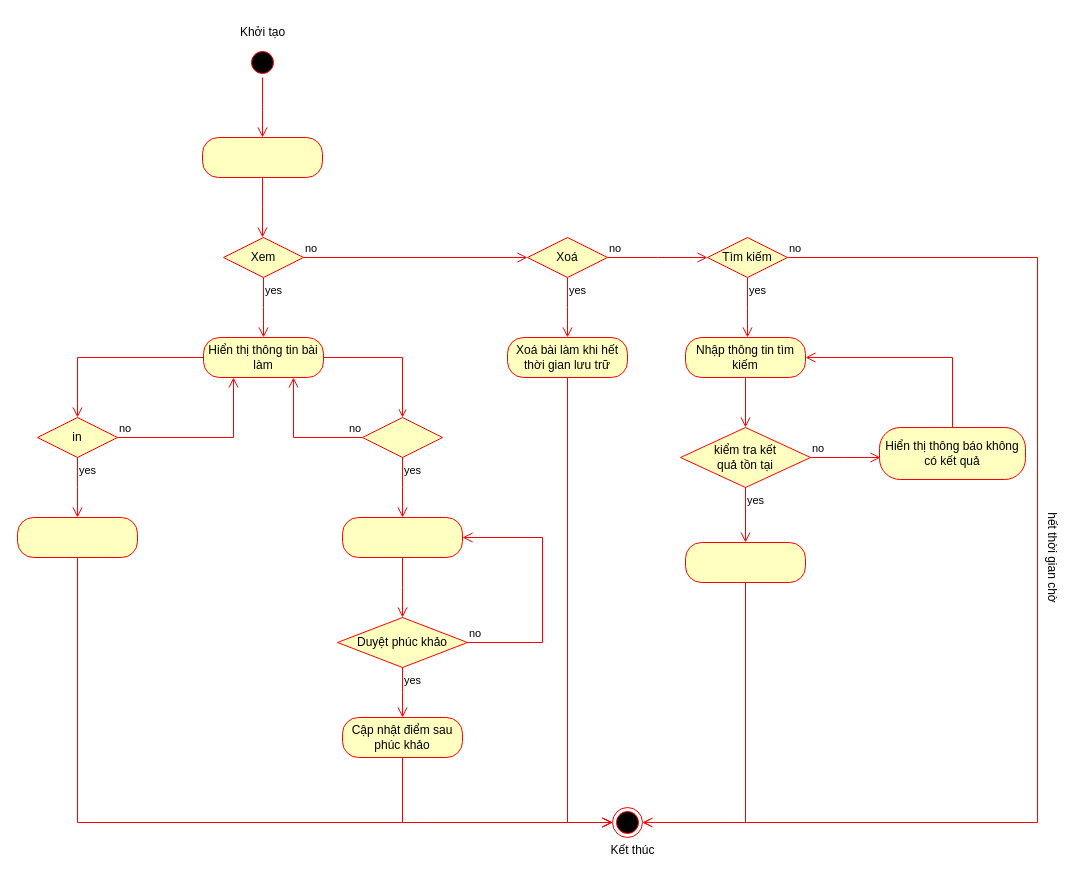
Image size: 1085x882. Some labels were removed from this diagram. The shapes that lost their labels are listed below. From the top down, each one's centre as x and y in pixels, then its label:
pixel 262 157: Danh sách bài làm
pixel 402 437: phúc khảo
pixel 77 537: in bài làm
pixel 402 537: Yêu cầu phúc khảo
pixel 745 562: Hiển thị danh sách kết quả
